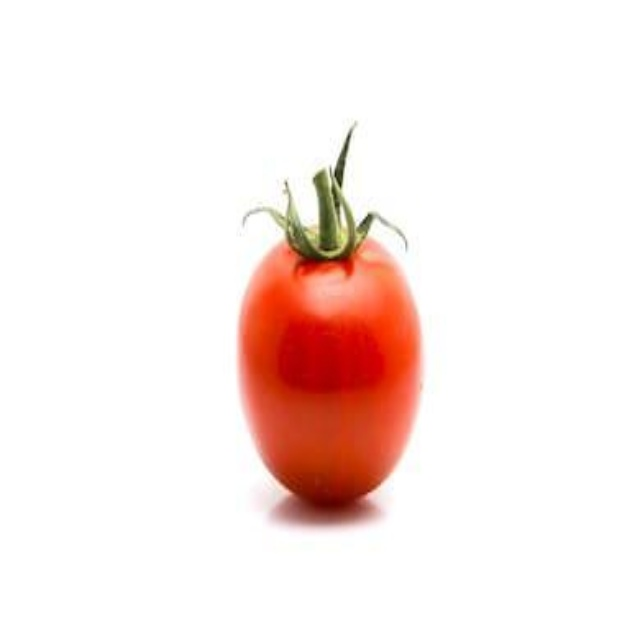tomato: (224, 133, 430, 512)
